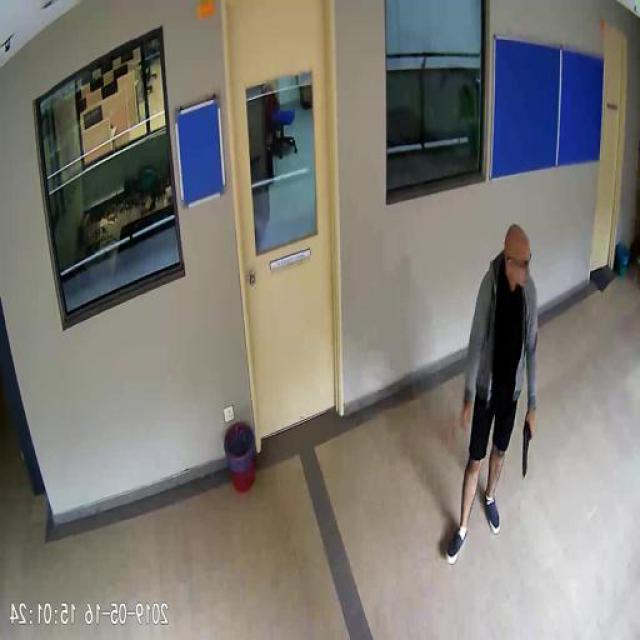Gun: (522, 416, 536, 476)
